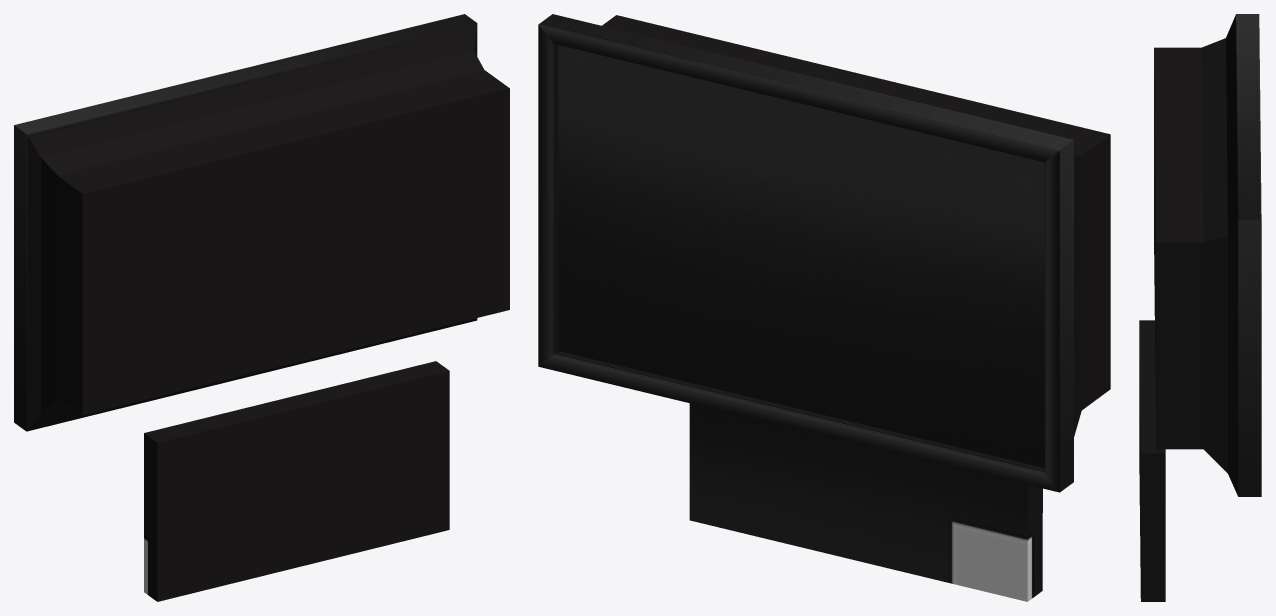
Rendered from frl_apartment_monitor.glb.
3 views of the same model, side by side, from view 1: azimuth 30°, elevation 25°; view 2: azimuth 150°, elevation 25°; view 3: azimuth 270°, elevation 25° (orthographic). The views are drawn at different scales.
Parts seen in each view (by area): view 1: frl_apartment_monitor, frl_apartment_monitor_panel; view 2: frl_apartment_monitor, frl_apartment_monitor_panel; view 3: frl_apartment_monitor, frl_apartment_monitor_panel.
Part boxes in pixels (box(x1,y1,x2,y2)): frl_apartment_monitor: box(14, 14, 509, 431); frl_apartment_monitor_panel: box(144, 361, 449, 601); frl_apartment_monitor: box(538, 14, 1110, 492); frl_apartment_monitor_panel: box(689, 403, 1042, 601); frl_apartment_monitor: box(1154, 14, 1261, 496); frl_apartment_monitor_panel: box(1139, 320, 1165, 601).
Size of the model in its own units: 0.6917 by 0.6565 by 0.1735.
1 material, 1 textured.
